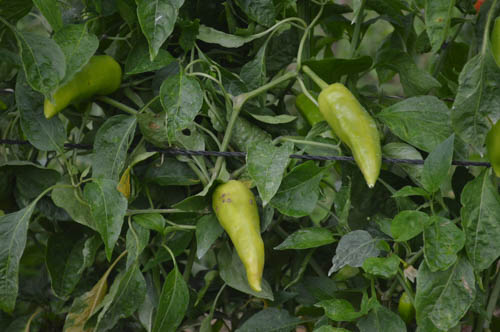ChiliPepper: (323, 85, 384, 188), (216, 182, 268, 294), (42, 55, 123, 120)
